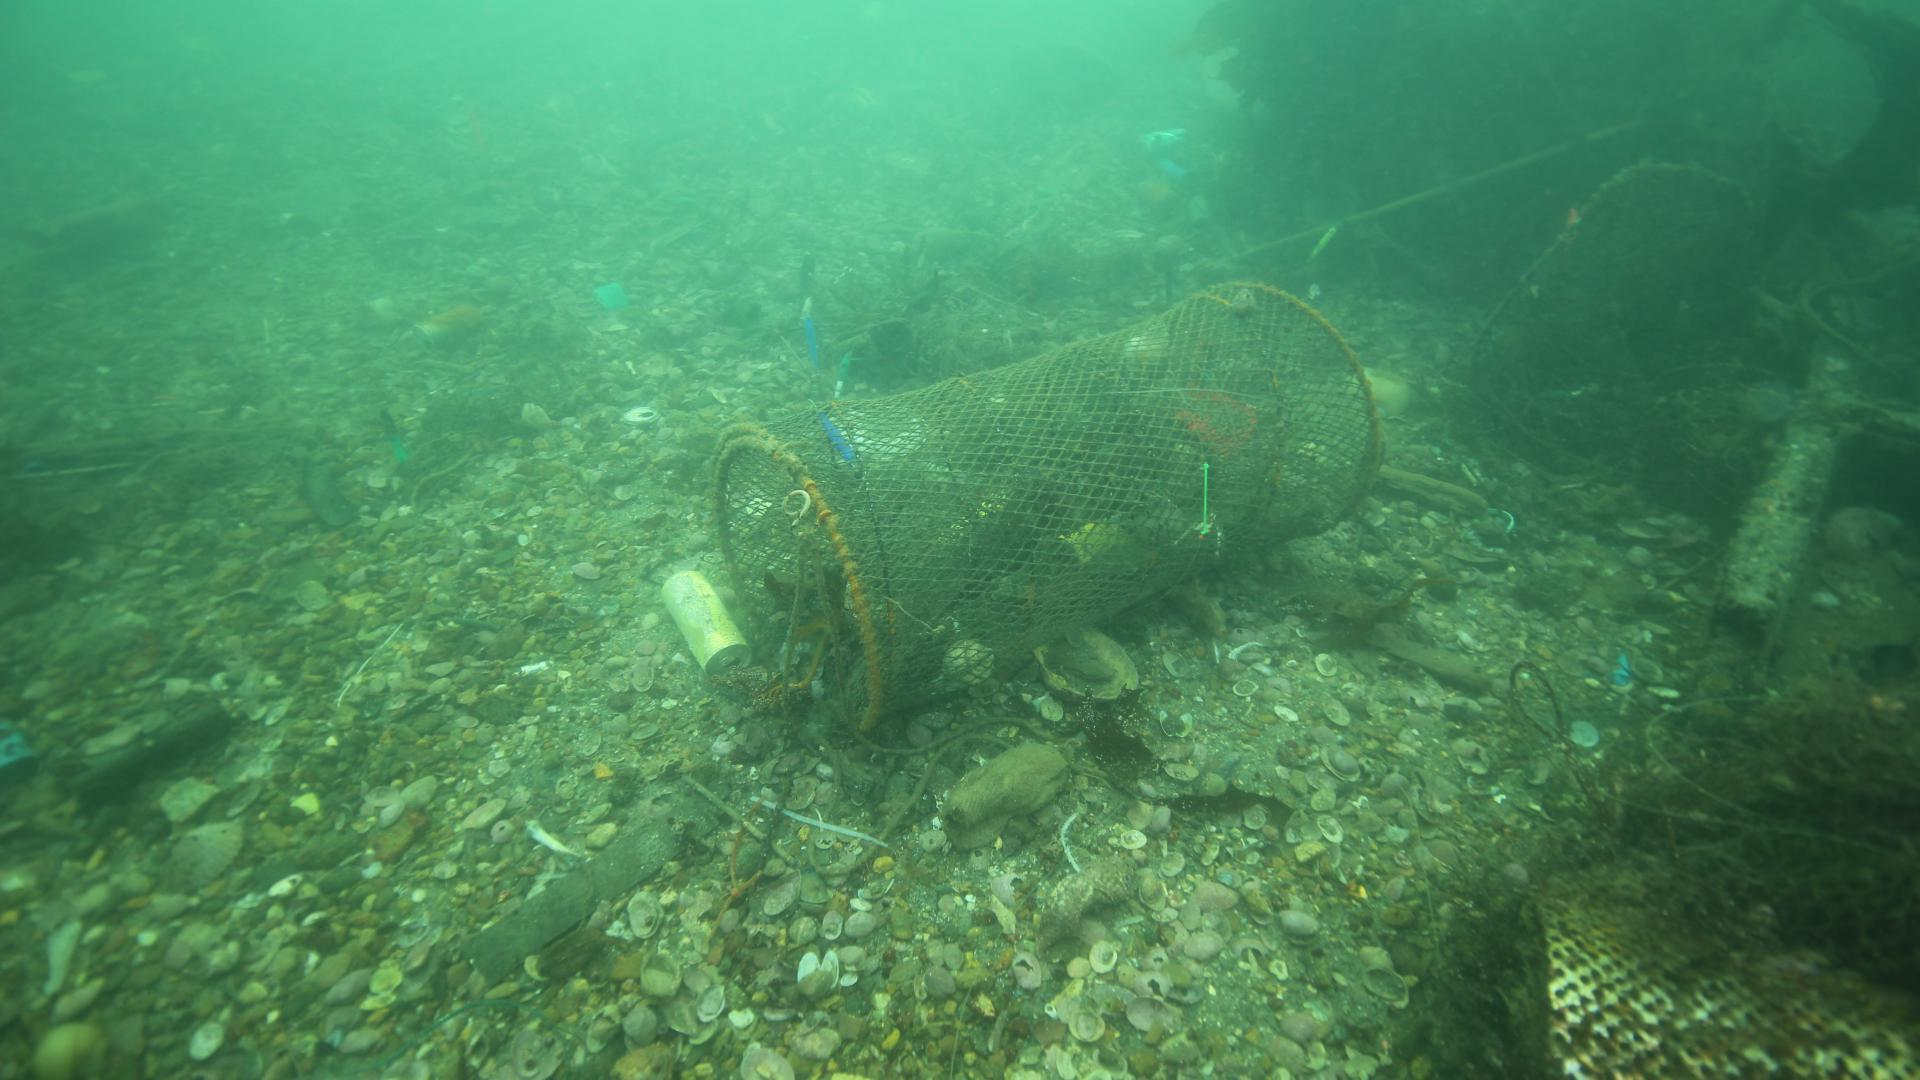spring fish trap: (708, 276, 1393, 733)
